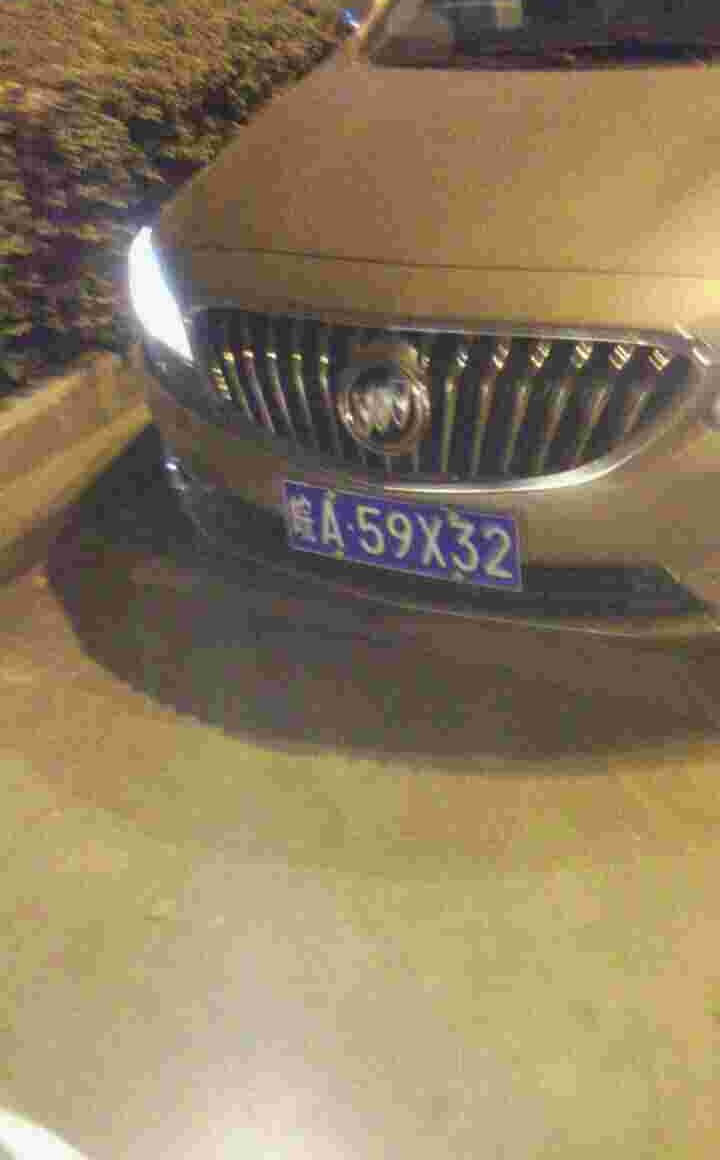plate: (274, 472, 528, 597)
